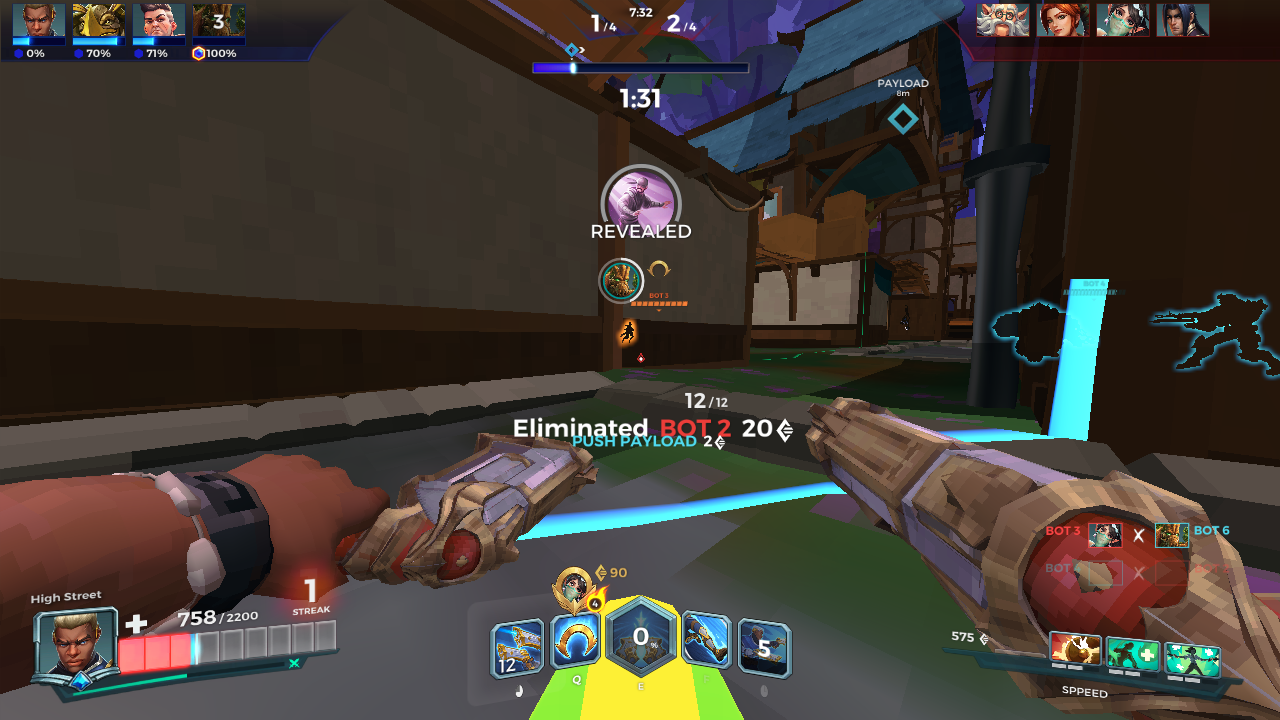model: (617, 311, 638, 348)
